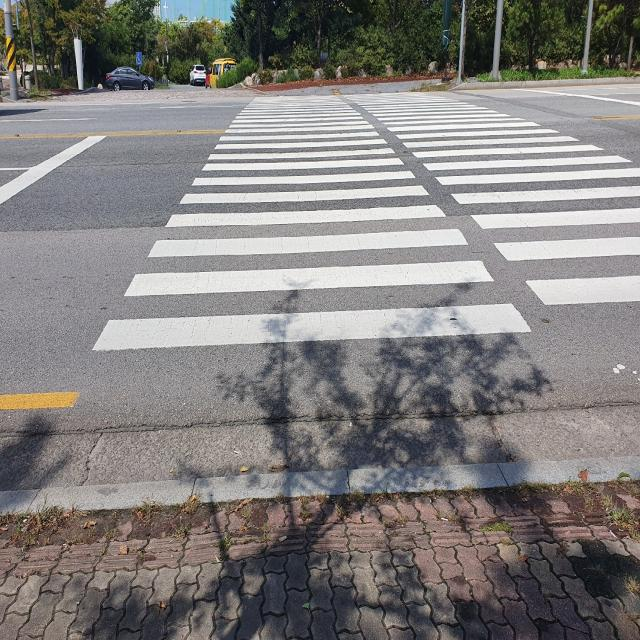횡단보도: (87, 92, 640, 356)
